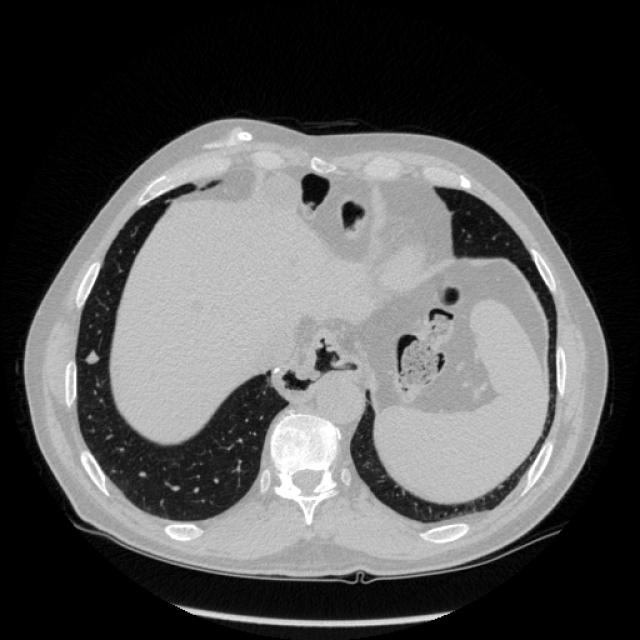nodule: (76, 341, 106, 371)
